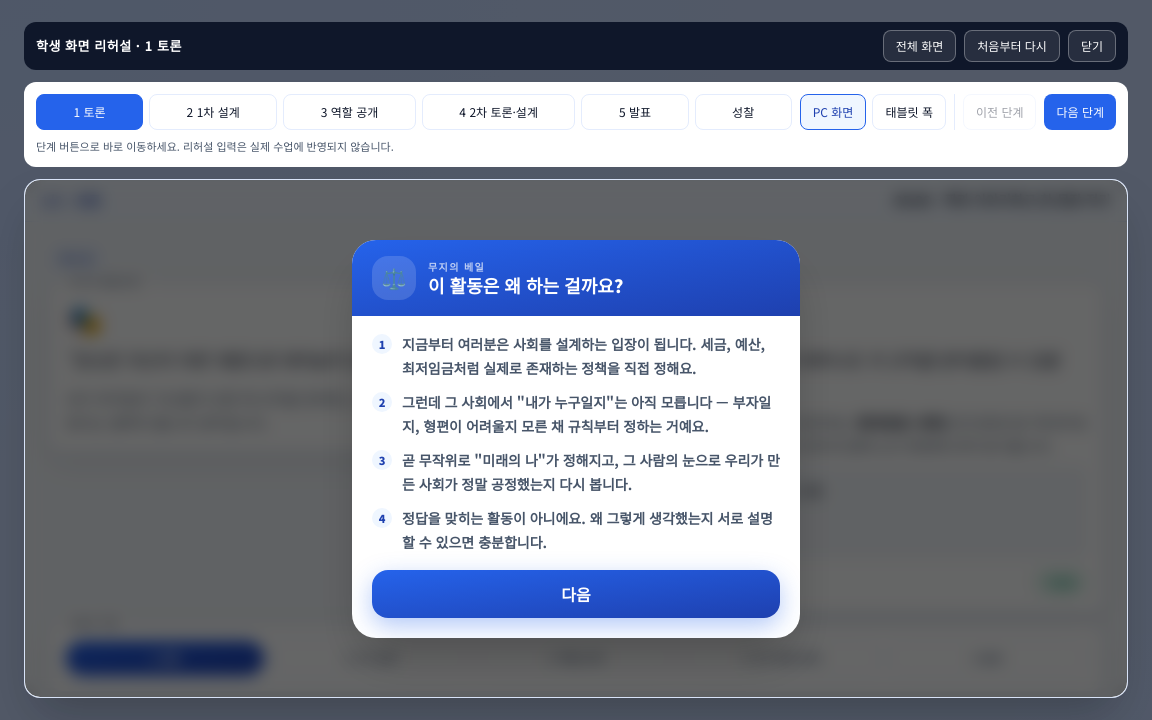
교사 독립 리허설 › 성찰 입력이 화면 이동 후에도 리허설 안에 남는다
The width and height of the screenshot is (1152, 720).
Click the button "성찰" at [743, 112], box [695,94,792,130]
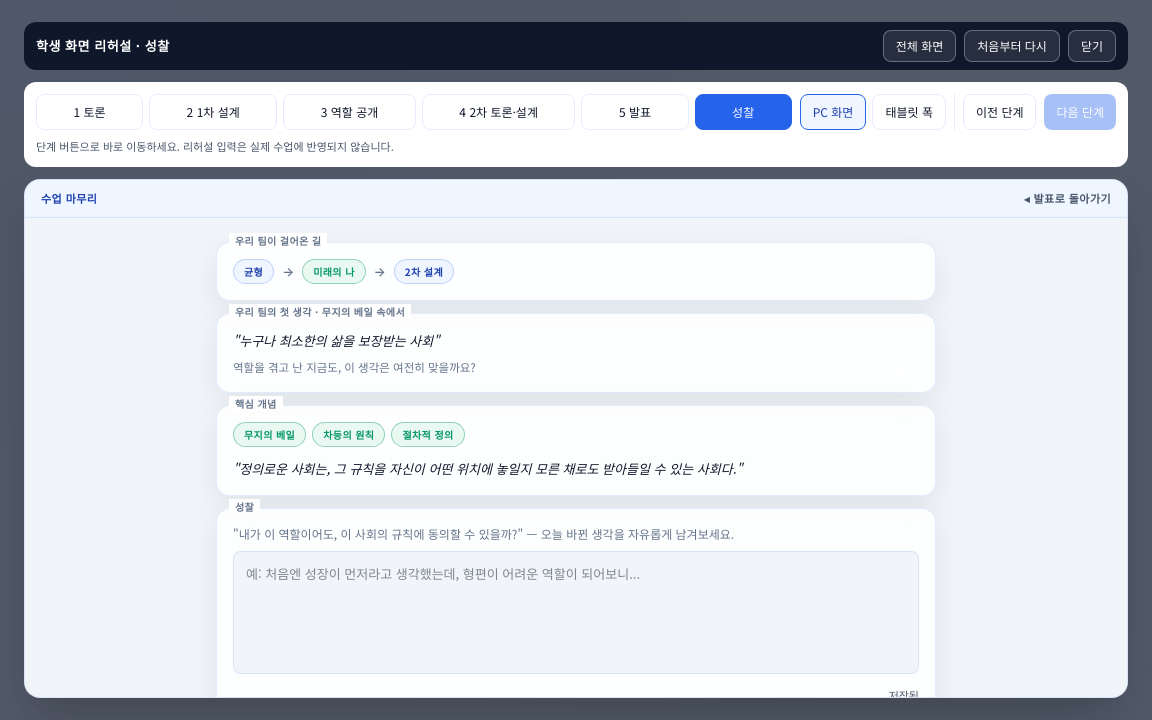
Type "리허설 성찰" into the text box at [576, 613], box [233,551,919,674]
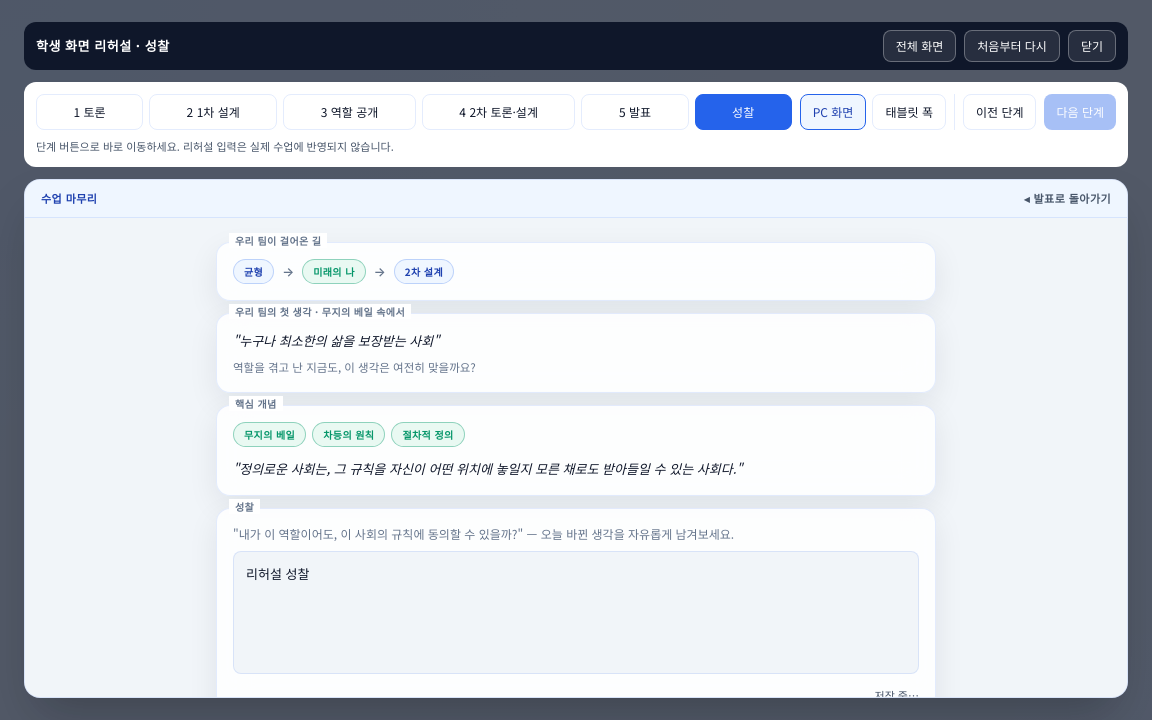
Click the button "5 발표" at [635, 112], box [582,94,689,130]
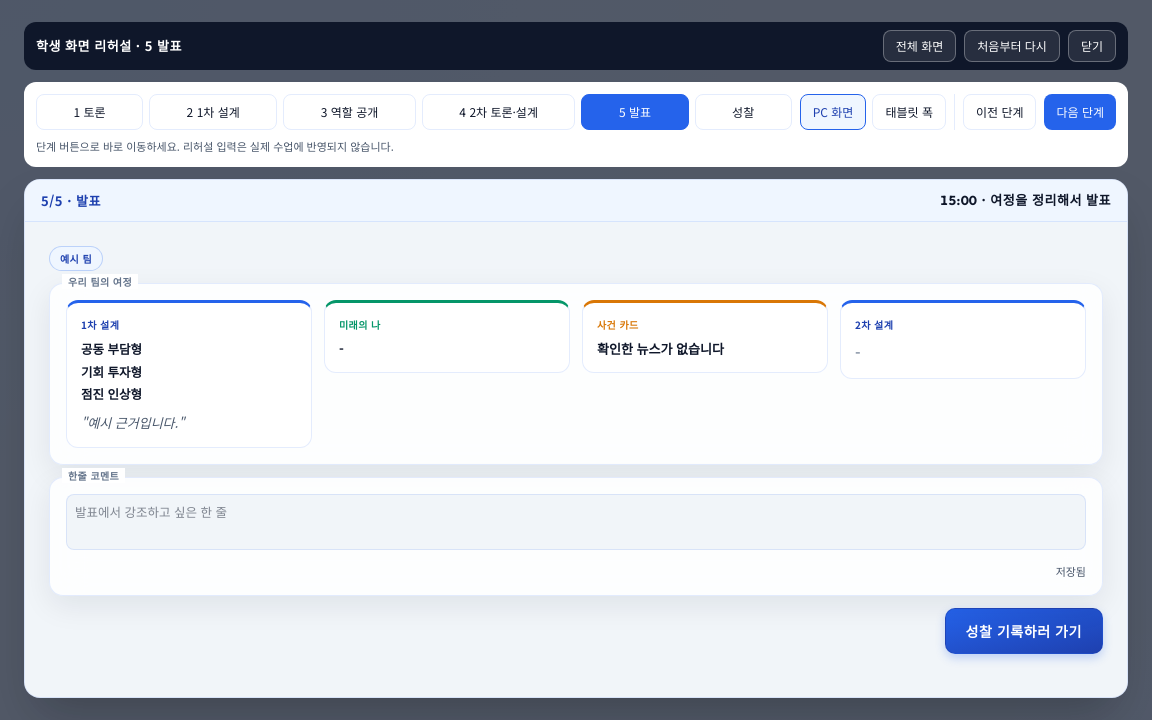
Click the button "성찰" at [743, 112], box [695,94,792,130]
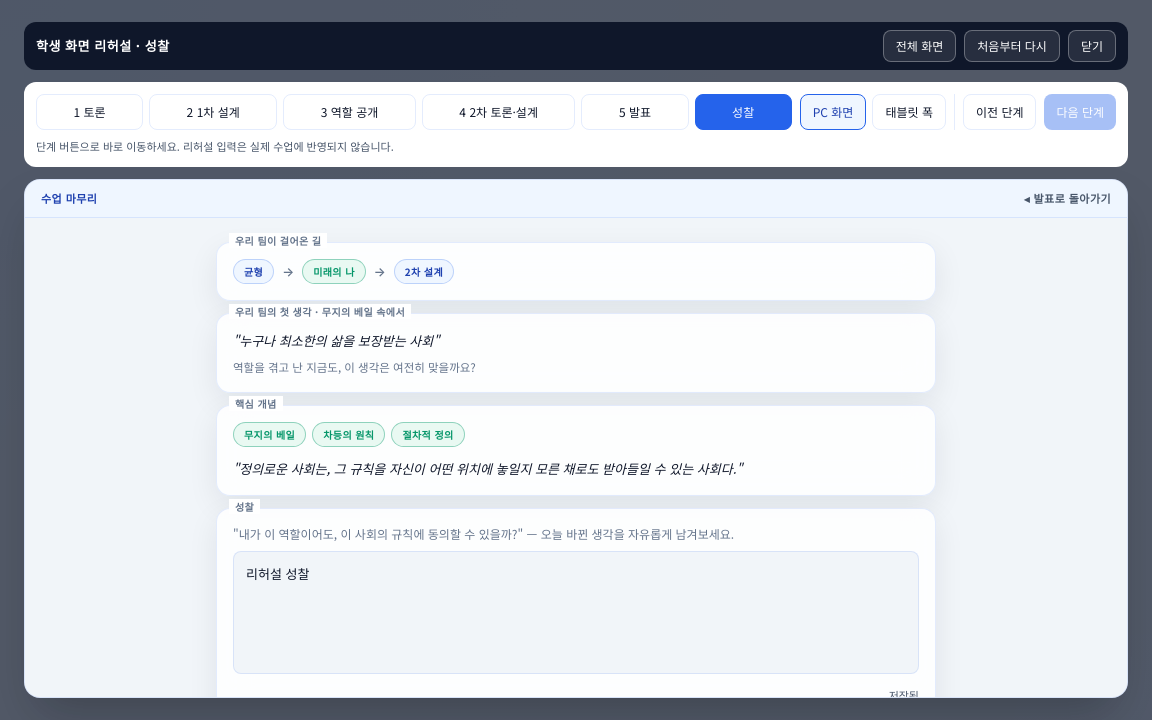
Now the text box holds "리허설 성찰", box [233,551,919,674]
